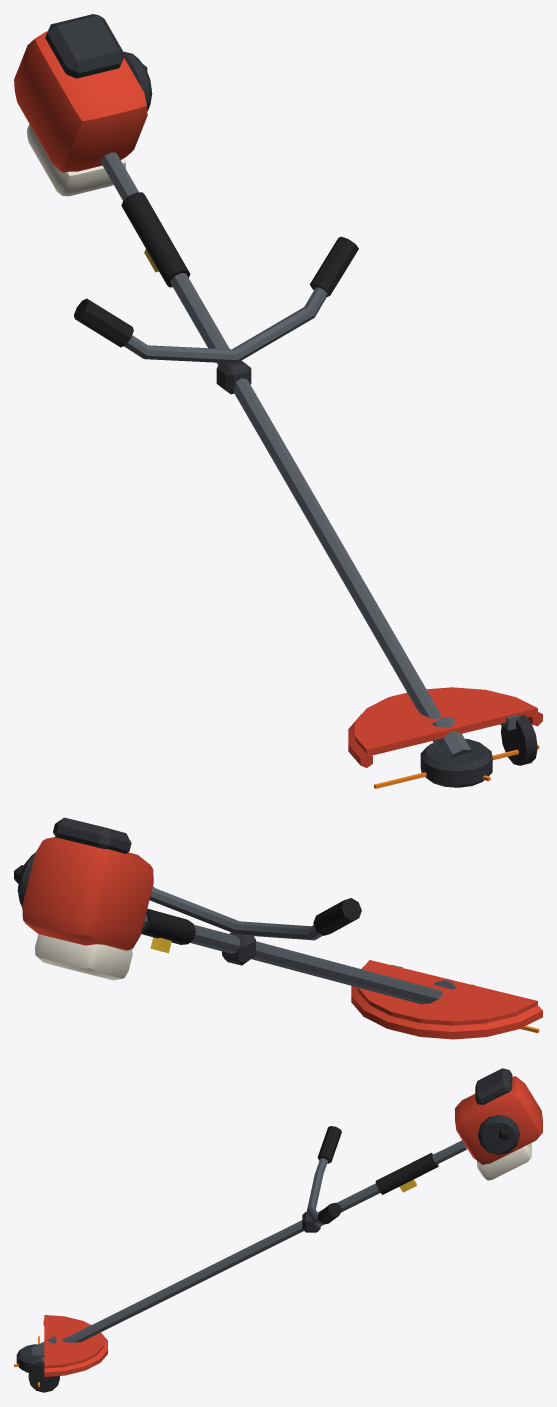
Rendered from tool_trimmer_pro.glb.
3 views of the same model, one above another, from view 1: azimuth 30°, elevation 25°; view 2: azimuth 150°, elevation 25°; view 3: azimuth 270°, elevation 25° (orthographic). The views are drawn at different scales.
Visible parts, largest first — view 1: Tool; view 2: Tool; view 3: Tool.
Part boxes in pixels (bbox=[...]): Tool: bbox=[14, 14, 542, 788]; Tool: bbox=[14, 817, 542, 1039]; Tool: bbox=[14, 1068, 542, 1392].
Bounding box in the file's own units: 0.7565 × 1.25 × 2.01.
